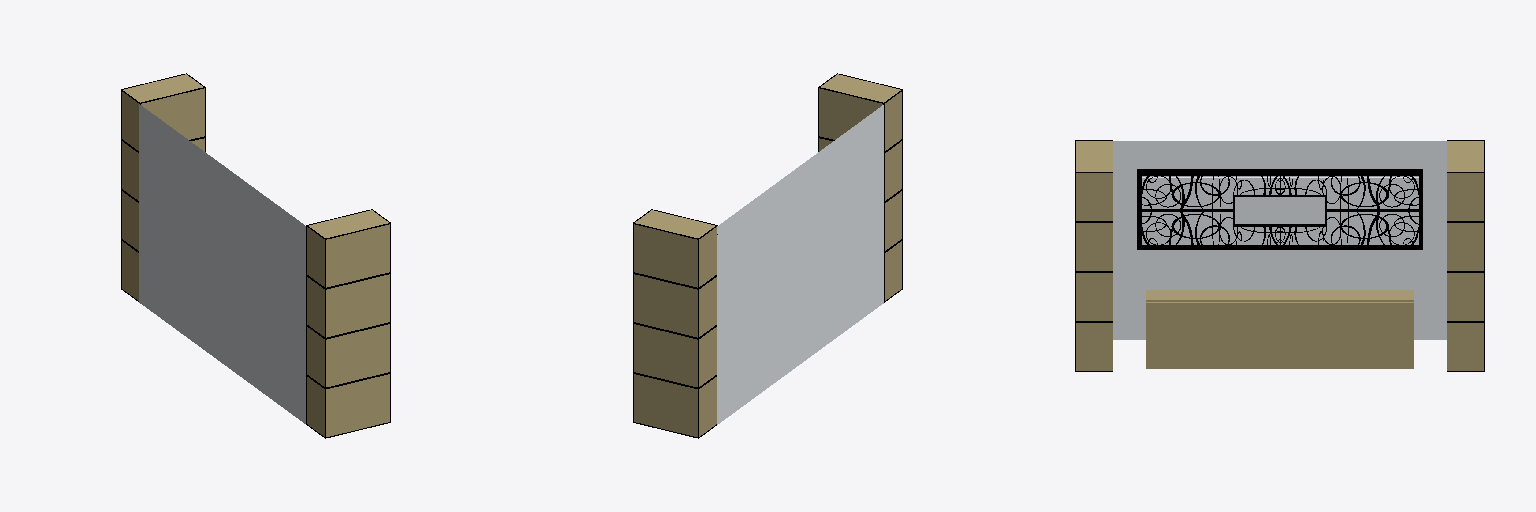
File: pred2.obj
The picture shows the model from 3 angles: view 1: azimuth 30°, elevation 25°; view 2: azimuth 150°, elevation 25°; view 3: azimuth 270°, elevation 25°; orthographic projection.
Parts seen in each view (by area): view 1: Object03, Rectangle3, Rectangle0; view 2: Object03, Rectangle0, Rectangle3; view 3: Object03, Rectangle2, Rectangle0, Rectangle3, Rectangle7, Circle02.C, Circle02.1, Circle02, Circle02.0, Rectangle1, Rectangle6.
Boxes of the visible parts, x1=… form: Object03: x1=139, y1=104, x2=305, y2=423; Rectangle3: x1=306, y1=209, x2=390, y2=438; Rectangle0: x1=121, y1=73, x2=205, y2=301; Object03: x1=717, y1=105, x2=883, y2=424; Rectangle0: x1=633, y1=209, x2=717, y2=438; Rectangle3: x1=818, y1=73, x2=902, y2=302; Object03: x1=1113, y1=141, x2=1446, y2=339; Rectangle2: x1=1146, y1=290, x2=1413, y2=368; Rectangle0: x1=1447, y1=140, x2=1484, y2=371; Rectangle3: x1=1075, y1=140, x2=1112, y2=371; Rectangle7: x1=1137, y1=171, x2=1422, y2=249; Circle02.C: x1=1142, y1=212, x2=1279, y2=245; Circle02.1: x1=1280, y1=176, x2=1418, y2=209; Circle02: x1=1280, y1=212, x2=1418, y2=245; Circle02.0: x1=1142, y1=176, x2=1279, y2=209; Rectangle1: x1=1142, y1=195, x2=1418, y2=226; Rectangle6: x1=1137, y1=169, x2=1422, y2=170.
Bounding box in the file's own units: 208 × 602 × 1119.